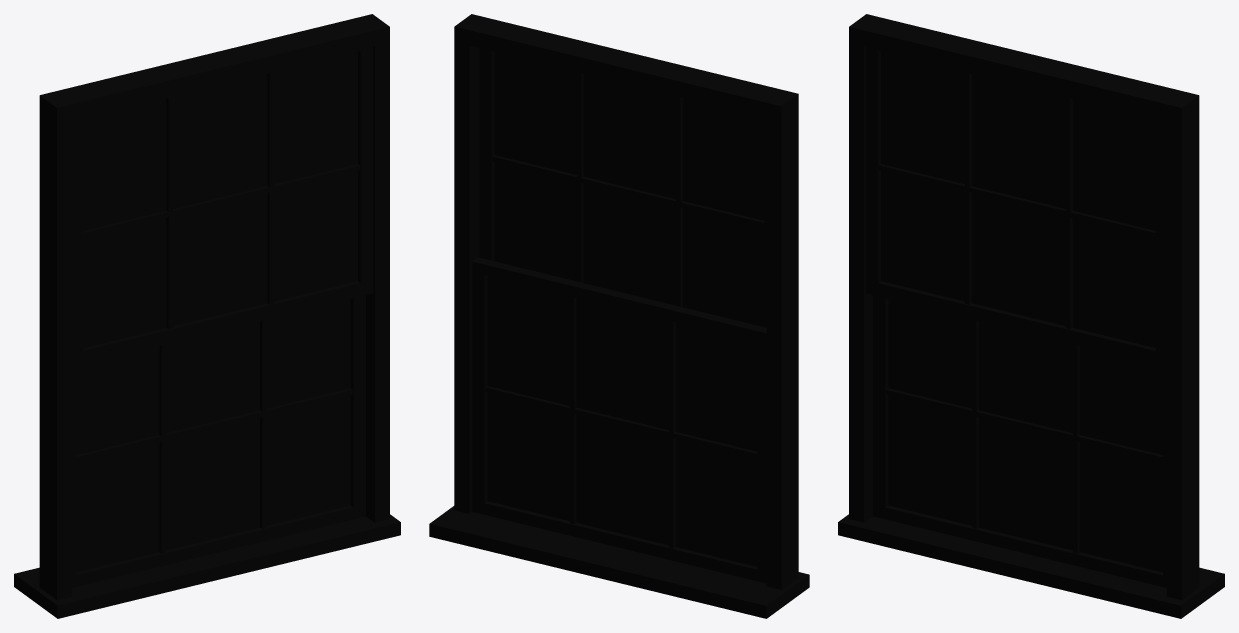
Rendered from SM_window_upper.fbx.
3 renders of one model, left to right at view 1: azimuth 30°, elevation 25°; view 2: azimuth 150°, elevation 25°; view 3: azimuth 330°, elevation 25°, orthographic.
Visible parts, largest first — view 1: window_upper, window_upper_lower; view 2: window_upper, window_upper_lower; view 3: window_upper, window_upper_lower.
Part boxes in pixels (<box>): window_upper: <box>14,14,400,618</box>; window_upper_lower: <box>72,295,365,587</box>; window_upper: <box>429,14,809,618</box>; window_upper_lower: <box>472,257,766,583</box>; window_upper: <box>838,14,1224,618</box>; window_upper_lower: <box>873,295,1166,587</box>.
Size of the model in its own units: 1.36 by 1.91 by 0.3.
